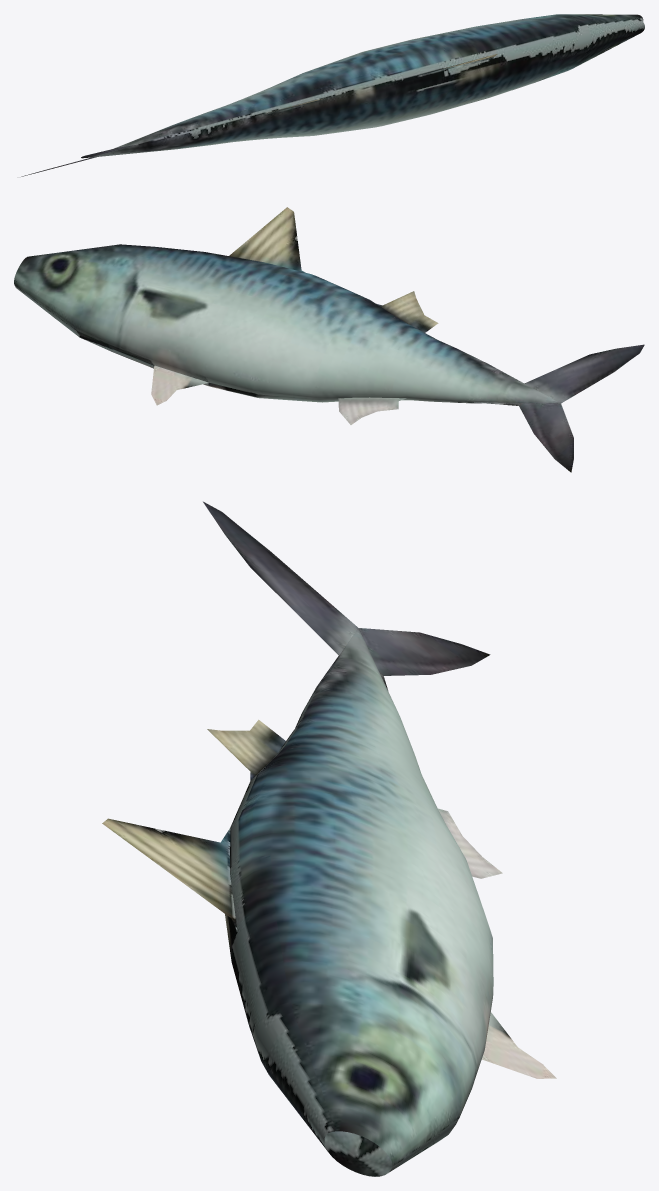
The model's file is minnow.glb.
The picture shows the model from 3 angles, top to bottom: view 1: azimuth 30°, elevation 25°; view 2: azimuth 150°, elevation 25°; view 3: azimuth 270°, elevation 25°; orthographic projection. The views are drawn at different scales.
Parts seen in each view (by area): view 1: minnow; view 2: minnow; view 3: minnow.
Part boxes in pixels (x1,y1,x2,y2): minnow: (21, 14, 644, 176); minnow: (14, 207, 644, 472); minnow: (102, 501, 556, 1176).
Bounding box in the file's own units: 0.12 × 0.0233 × 0.0402.
1 material, 1 textured.
